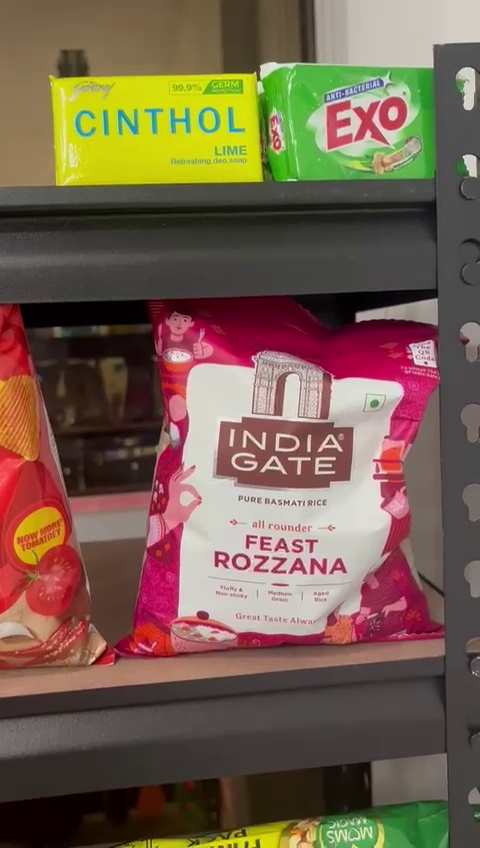Cinthol: (53, 79, 258, 185)
Exo Soap: (256, 60, 439, 174)
India Gate Feast Rozzana: (153, 306, 444, 643)
